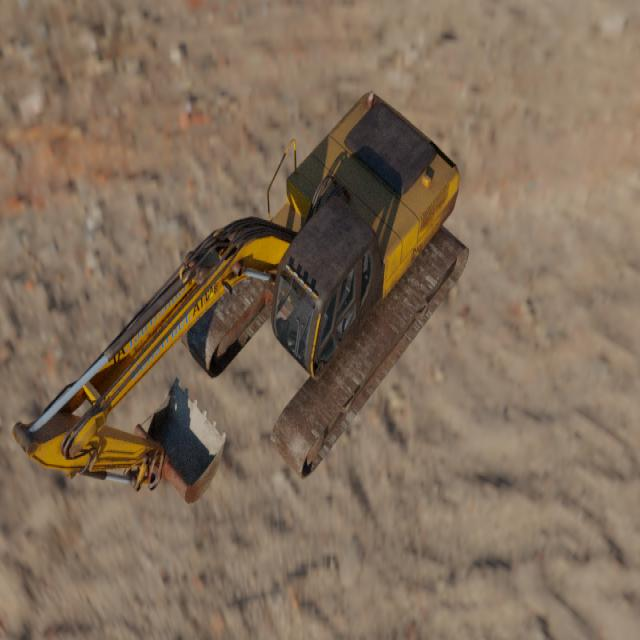excavator: (11, 89, 469, 504)
